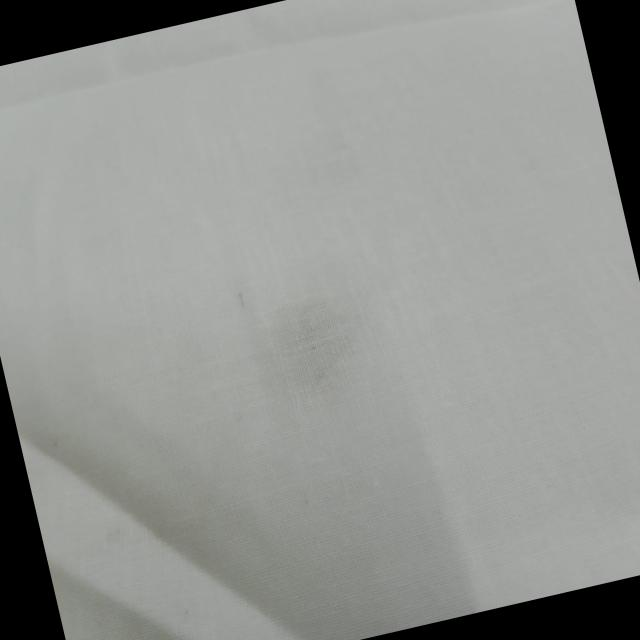stain: (222, 262, 400, 432)
